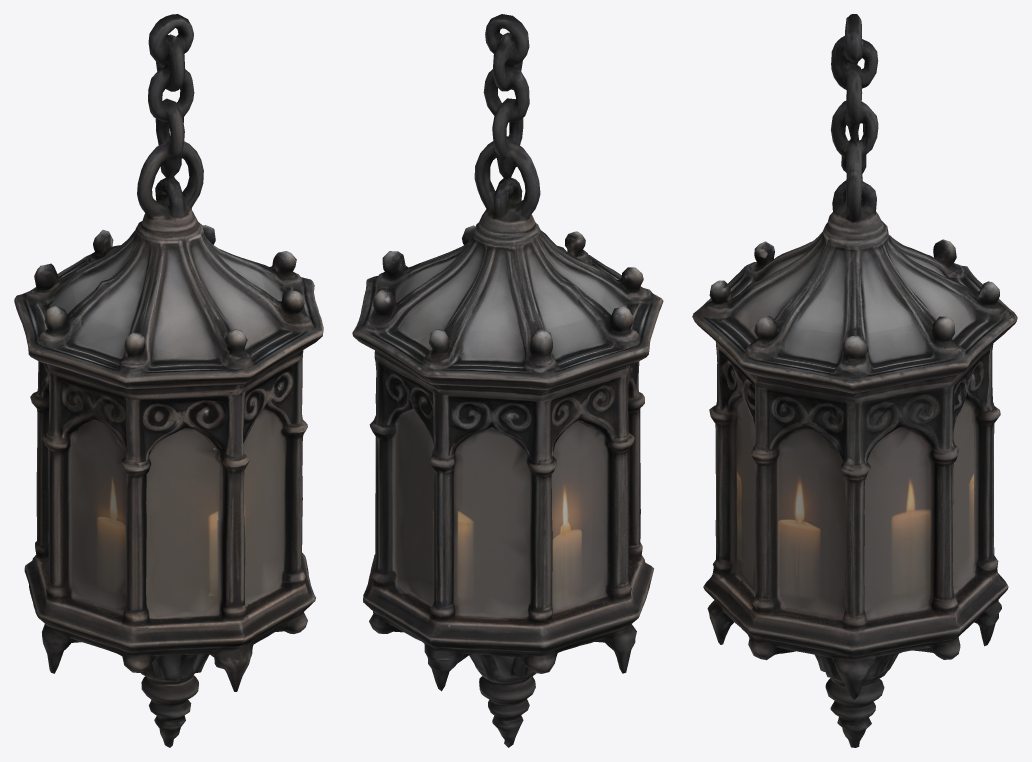
File: hanging_lantern.glb
3 renders of one model, left to right at view 1: azimuth 30°, elevation 25°; view 2: azimuth 150°, elevation 25°; view 3: azimuth 270°, elevation 25°, orthographic.
Bounding box in the file's own units: 0.8115 × 2 × 0.805.
1 material, 1 textured.
